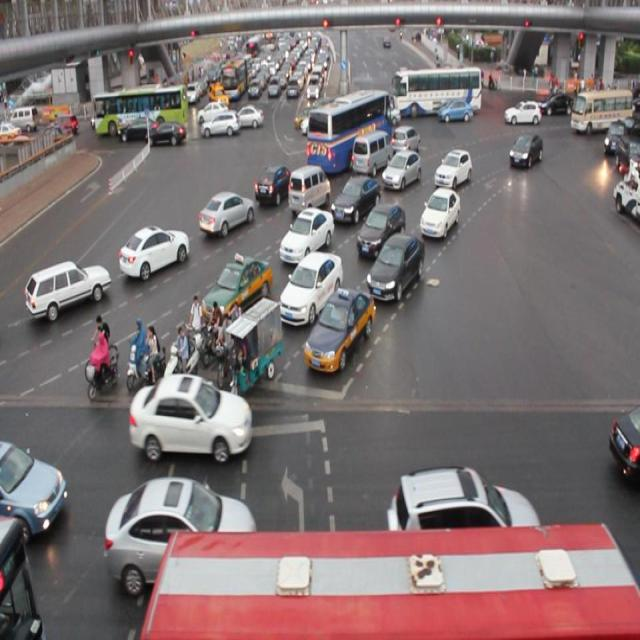car: (106, 478, 257, 592), (385, 459, 541, 556), (130, 371, 252, 462), (1, 437, 67, 537), (302, 290, 374, 377), (200, 252, 272, 336), (24, 261, 109, 322), (277, 250, 342, 328), (364, 231, 425, 305), (118, 226, 189, 280), (279, 209, 333, 265), (610, 396, 640, 488), (329, 176, 380, 226), (198, 192, 254, 236), (356, 206, 405, 256), (417, 186, 460, 241), (253, 166, 297, 207), (381, 148, 420, 191), (434, 146, 473, 189), (507, 131, 541, 169), (390, 126, 420, 158)
truck: (286, 162, 331, 215), (344, 136, 386, 182)
van: (137, 524, 640, 640), (306, 91, 392, 176), (1, 511, 45, 640)
